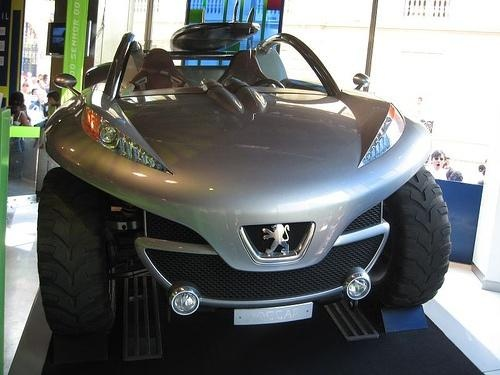car: (36, 11, 453, 351)
